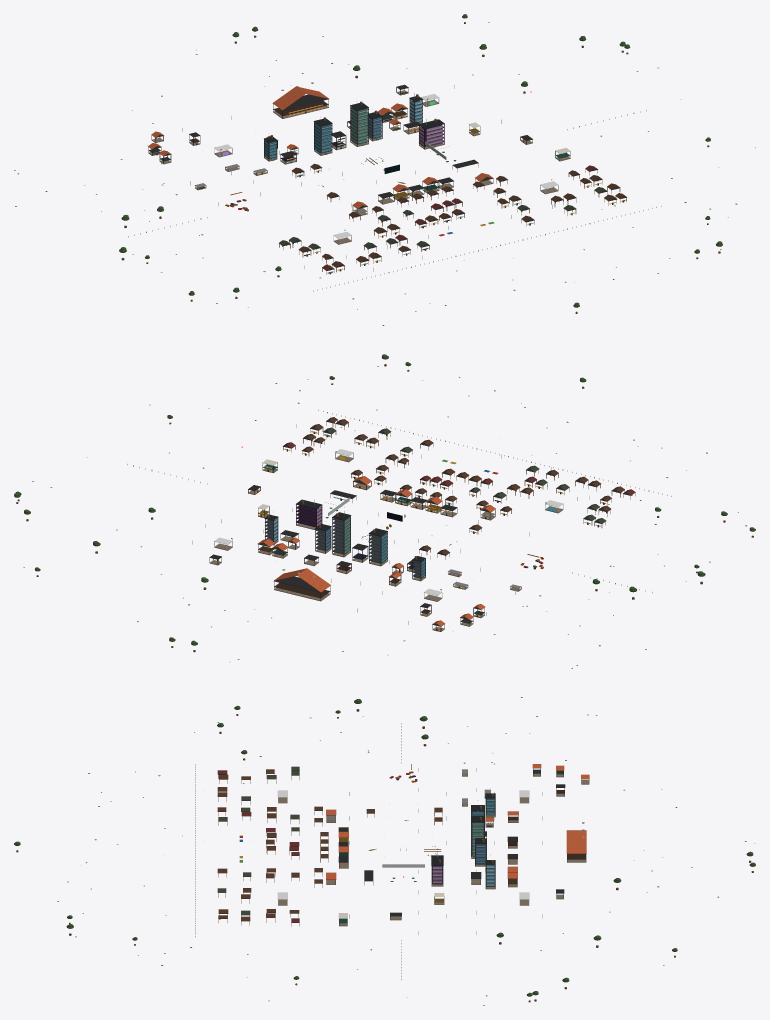
File: city-b.glb
3 views of the same model, one above another, from view 1: azimuth 30°, elevation 25°; view 2: azimuth 150°, elevation 25°; view 3: azimuth 270°, elevation 25° (orthographic).
Parts seen in each view (by area): view 1: city-b; view 2: city-b; view 3: city-b.
Part boxes in pixels (x1=…): city-b: x1=14, y1=14, x2=755, y2=325; city-b: x1=14, y1=354, x2=755, y2=668; city-b: x1=14, y1=697, x2=755, y2=1005.
Bounding box in the file's own units: 756 × 54.4 × 768.
Materials: 103 (101 with a texture image).
